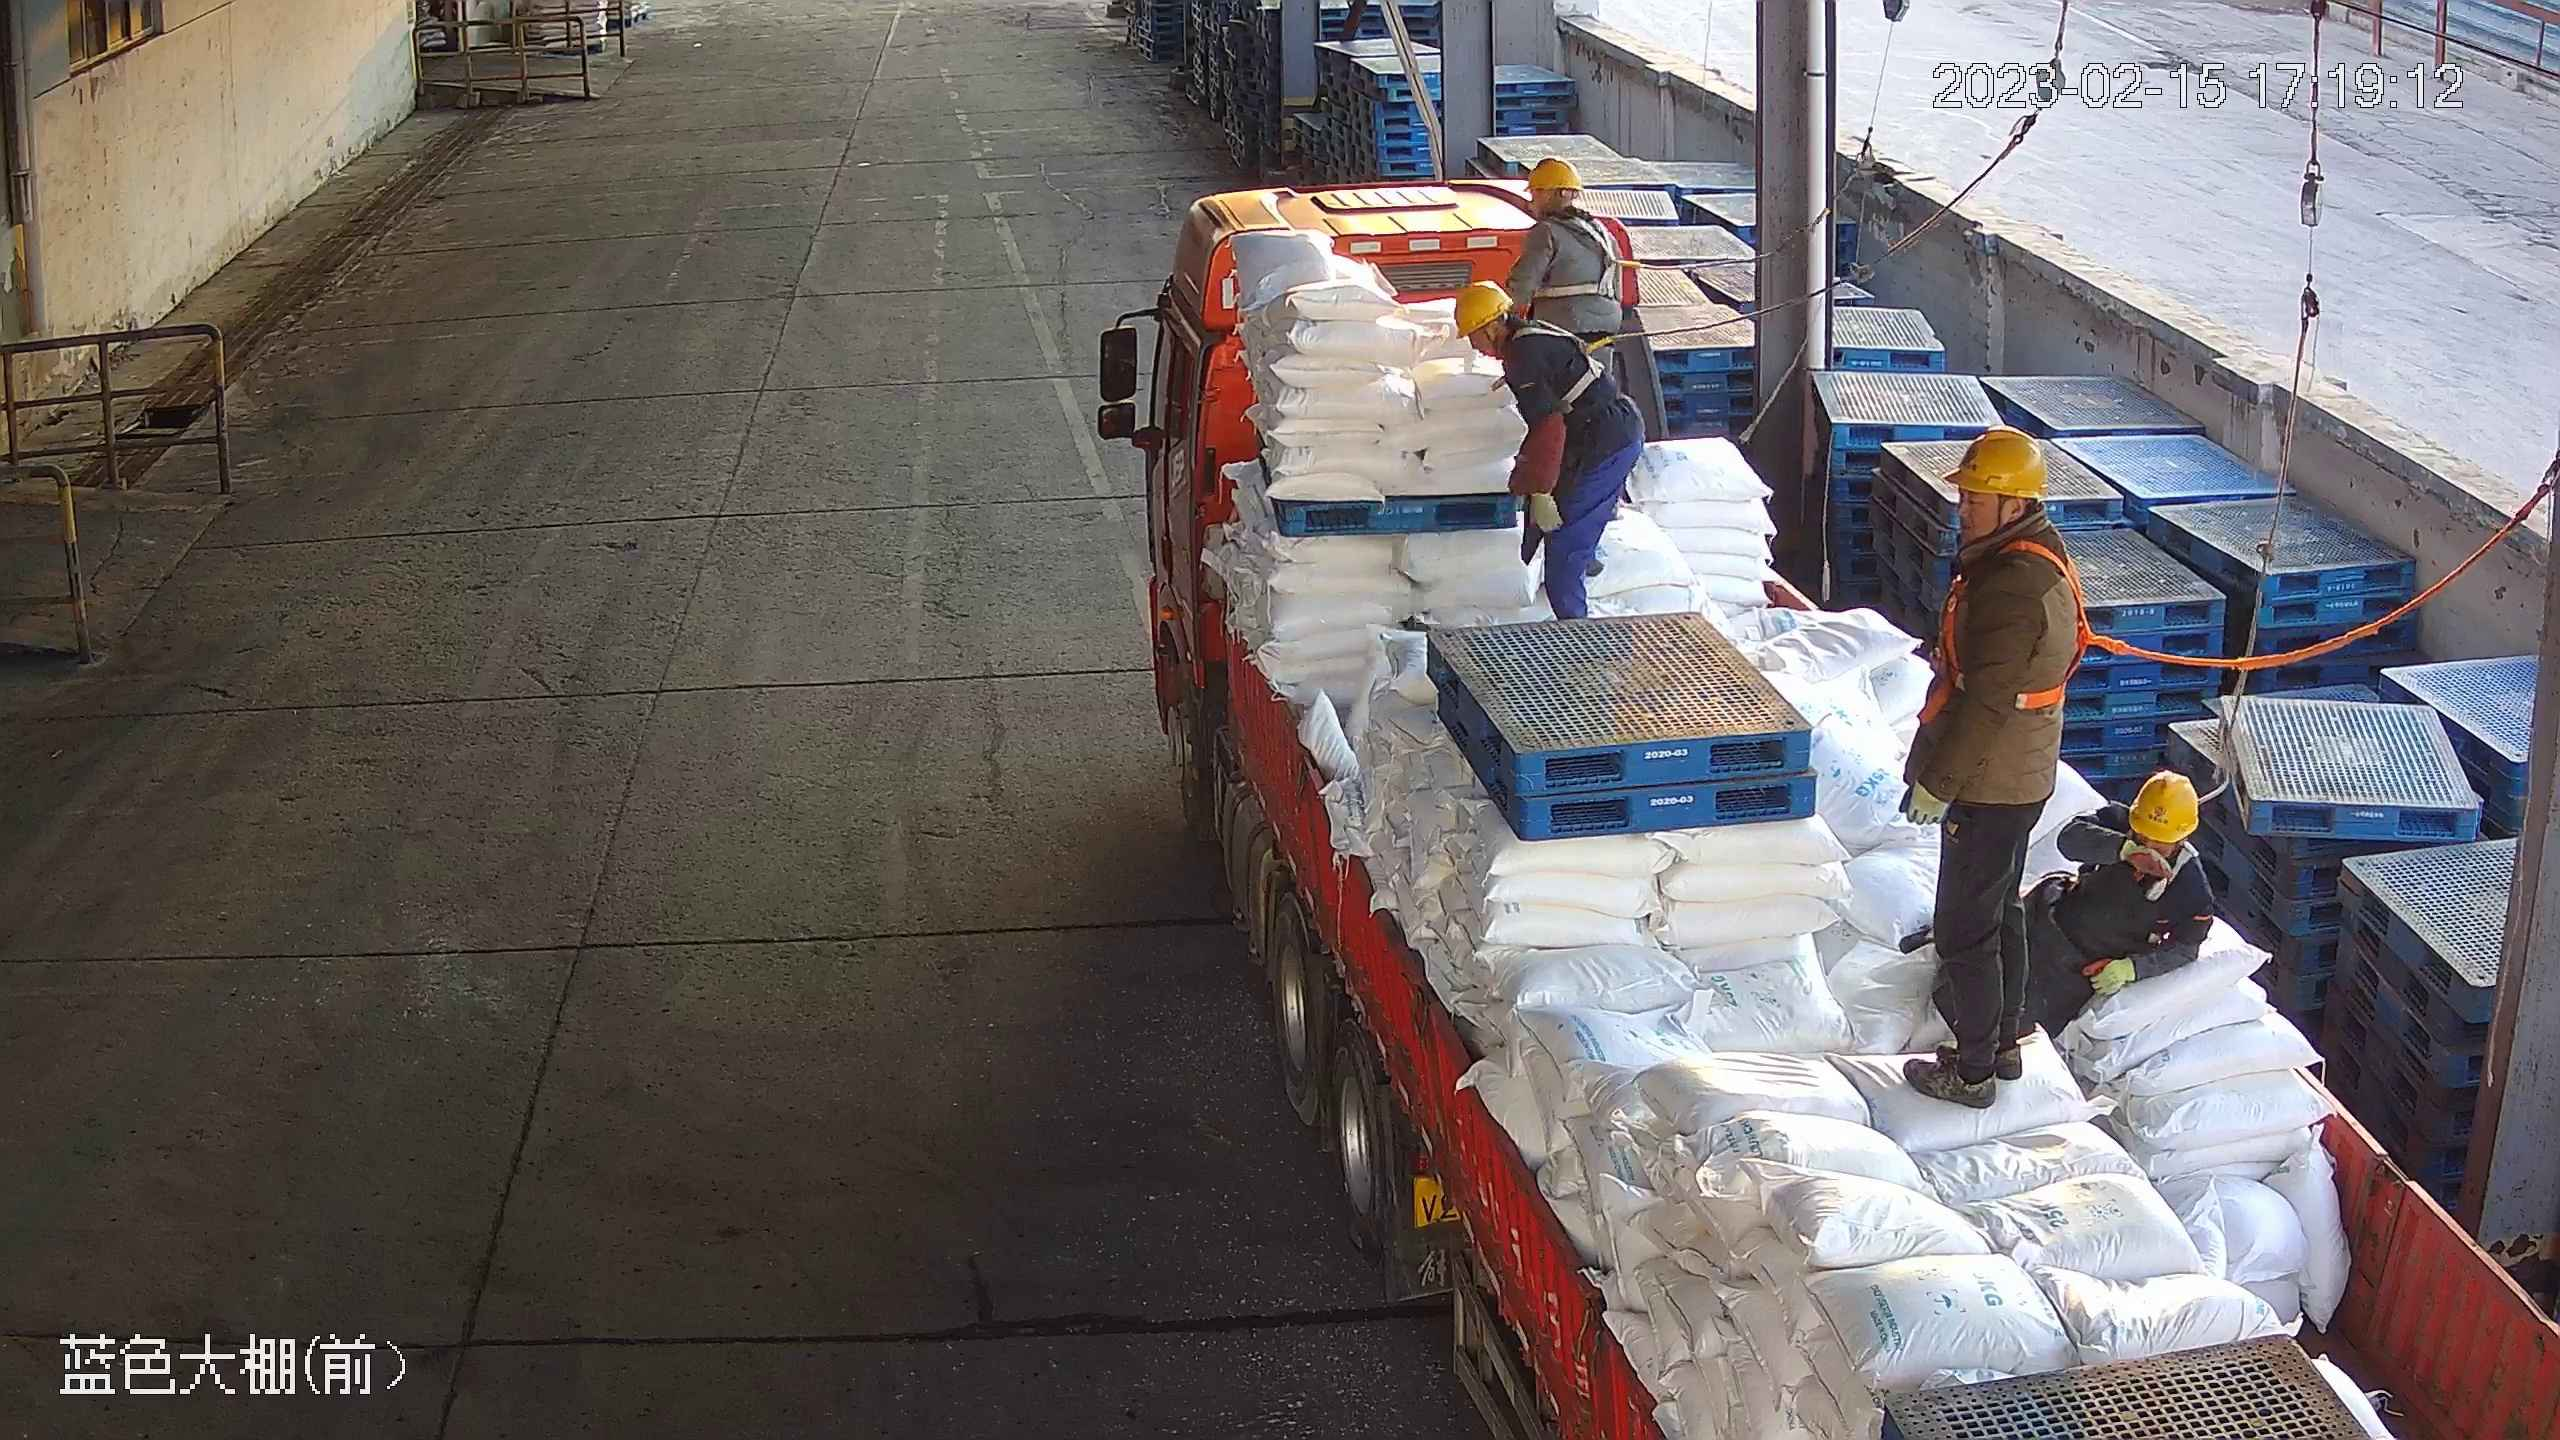belt: (1931, 536, 2115, 714), (1511, 305, 1638, 405), (1531, 209, 1655, 311), (2089, 823, 2208, 905)
head: (1908, 433, 2078, 633), (1452, 281, 1598, 418), (2090, 764, 2212, 891), (1513, 152, 1630, 281)
helmet: (1941, 429, 2055, 505), (2127, 767, 2201, 842), (1454, 281, 1515, 333), (1524, 154, 1583, 196)
people: (1091, 166, 2560, 1440), (1895, 428, 2081, 1108), (1902, 767, 2222, 1040), (1449, 279, 1647, 620)
